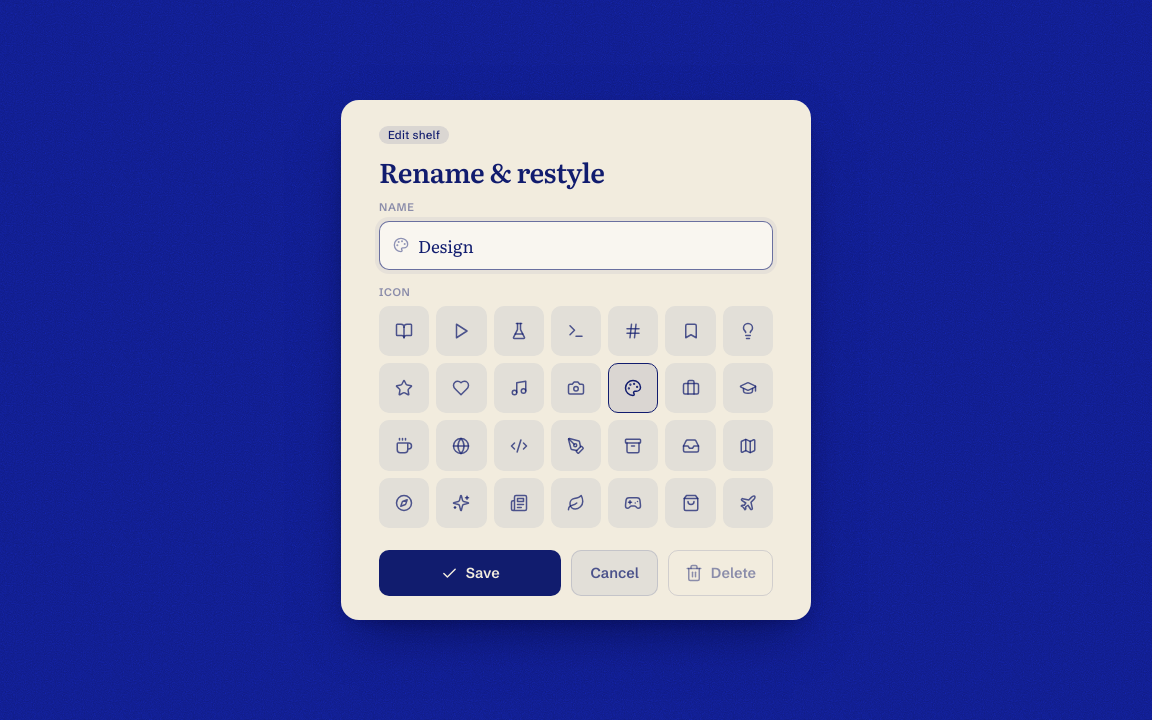
it: ShelfEditorModal › still asks twice for a shelf that holds nothing
Click the button "Delete" at (720, 573), box [668,550,773,596]
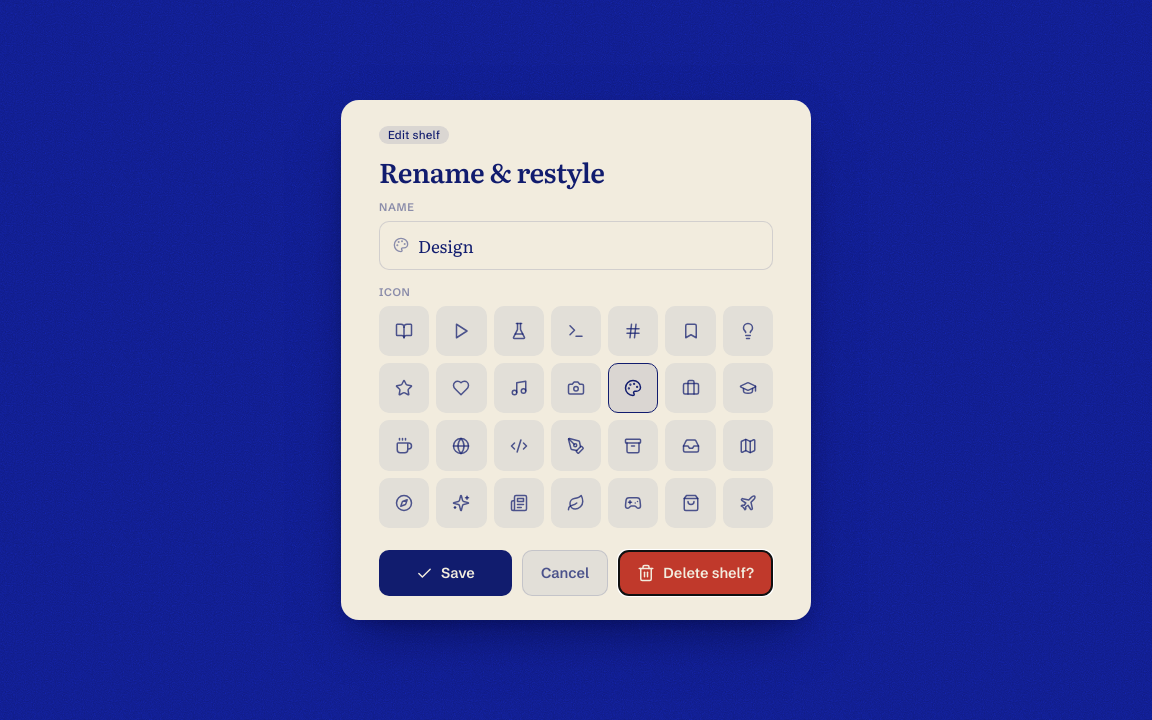
Expected: the button "Delete shelf?" is shown, [618,550,773,596]
